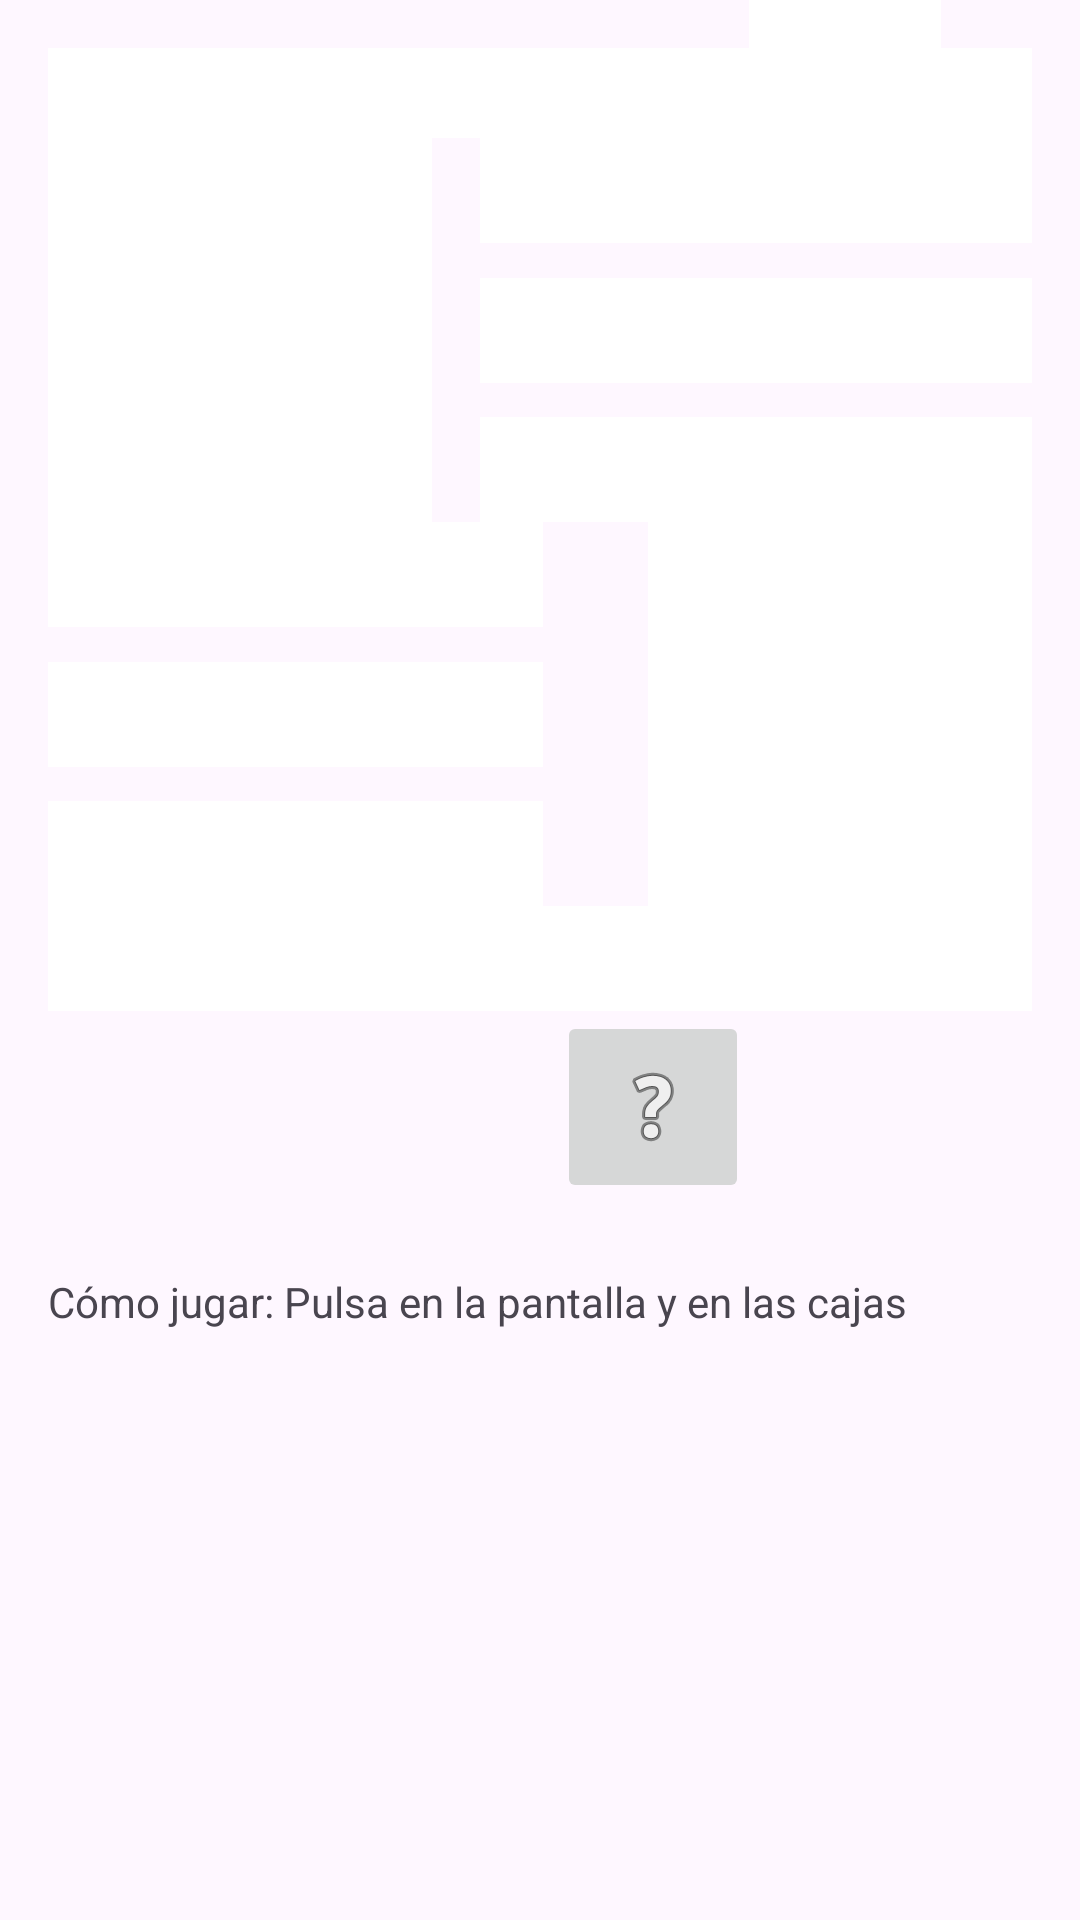

Icon bounding boxes for this 1080px x 1920px phone screenshot, format [x1=x1, y1=y1, x2=x2, y2=y2]:
help: [x1=569, y1=1029, x2=737, y2=1185]
